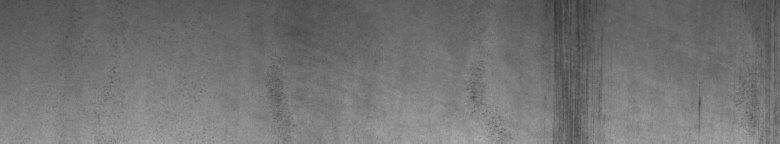ka: (467, 4, 592, 136)
